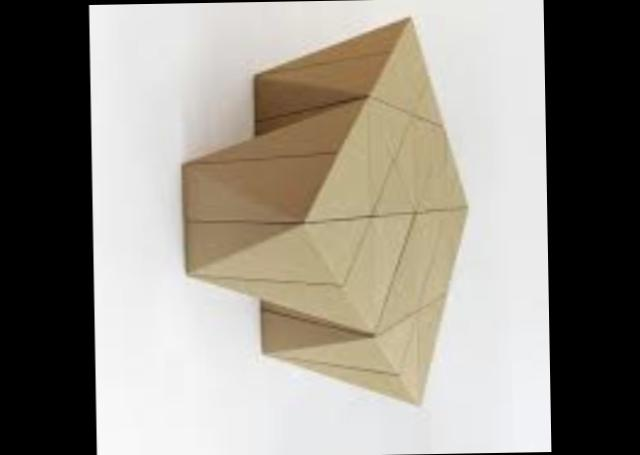cardboard paper: (188, 13, 470, 397)
